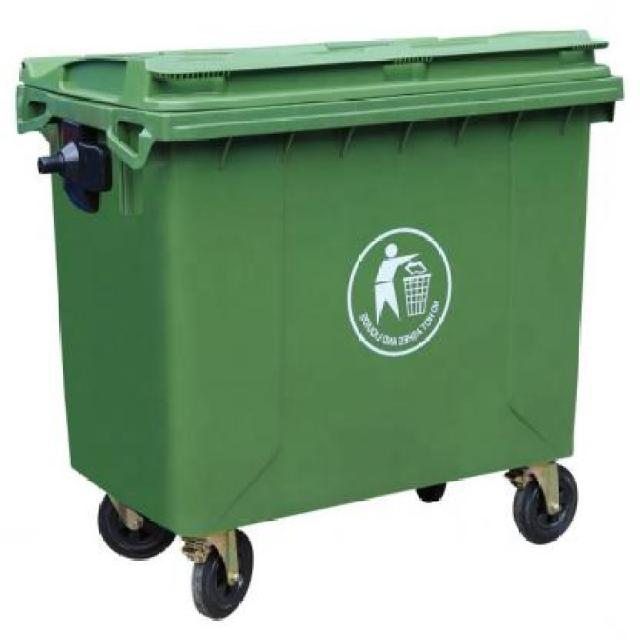garbage container: (6, 21, 632, 625)
